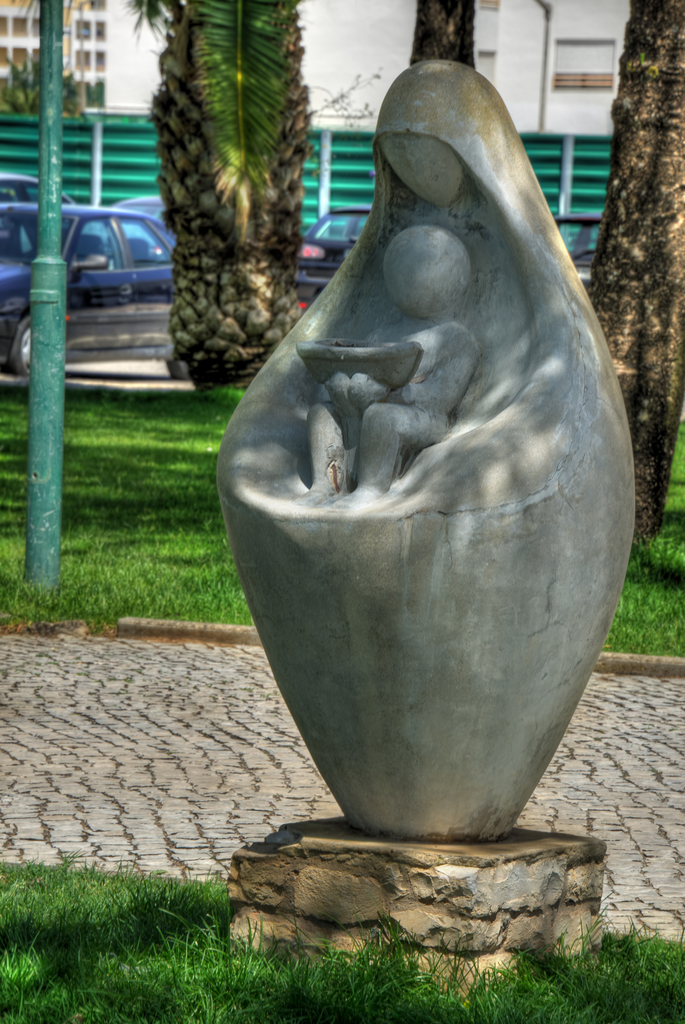cars: (0, 189, 190, 383), (289, 209, 376, 314), (552, 212, 602, 289), (111, 193, 173, 235), (0, 172, 73, 202)
